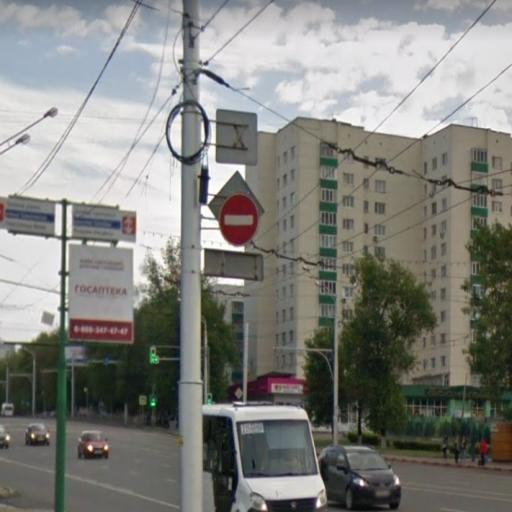traffic_sign: (219, 192, 261, 249)
